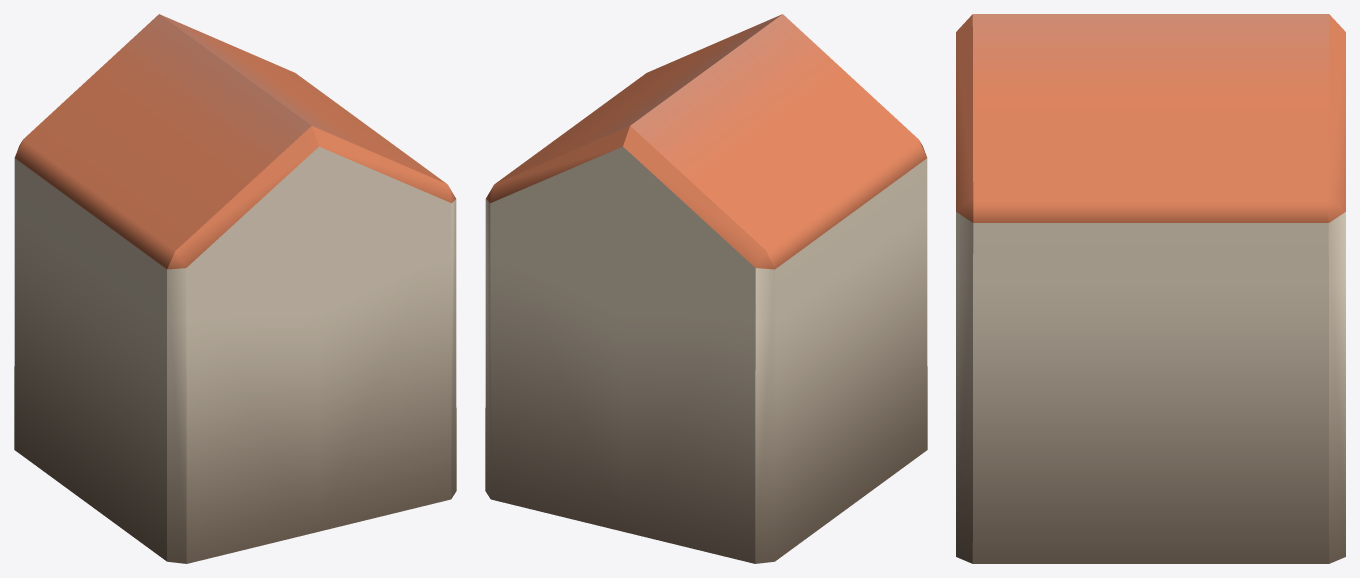
The model's file is house.fbx.
3 renders of one model, left to right at view 1: azimuth 30°, elevation 25°; view 2: azimuth 150°, elevation 25°; view 3: azimuth 270°, elevation 25°, orthographic. The views are drawn at different scales.
Parts seen in each view (by area): view 1: pasted__house7; view 2: pasted__house7; view 3: pasted__house7.
Boxes of the visible parts, x1=… form: pasted__house7: x1=14, y1=14, x2=456, y2=563; pasted__house7: x1=485, y1=14, x2=927, y2=563; pasted__house7: x1=956, y1=14, x2=1345, y2=563.
Size of the model in its own units: 13.57 by 17.96 by 13.57.
